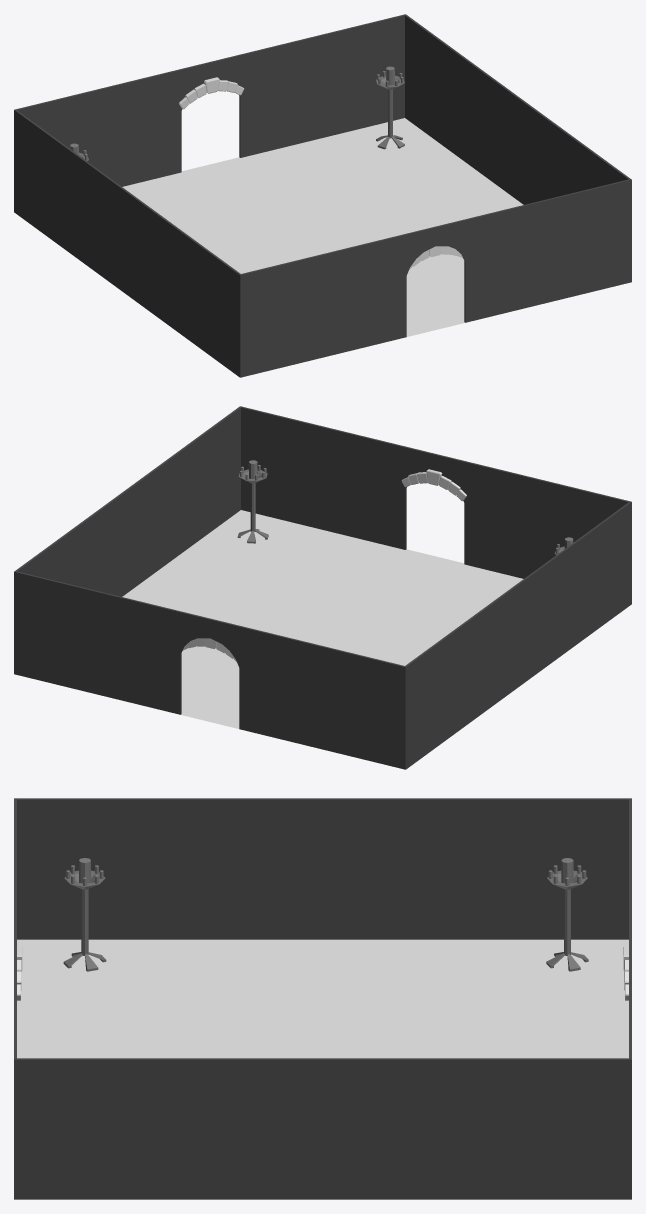
Rendered from Crypts Room 5 Mesh Fixed Origin With Candle.fbx.
3 views of the same model, one above another, from view 1: azimuth 30°, elevation 25°; view 2: azimuth 150°, elevation 25°; view 3: azimuth 270°, elevation 25° (orthographic). The views are drawn at different scales.
Visible parts, largest first — view 1: Plane.022; view 2: Plane.022; view 3: Plane.022.
Part boxes in pixels (x1,y1,x2,y2): Plane.022: (14, 14, 631, 377); Plane.022: (14, 406, 631, 769); Plane.022: (14, 798, 631, 1199).
Size of the model in its own units: 2000 by 500 by 2000.
